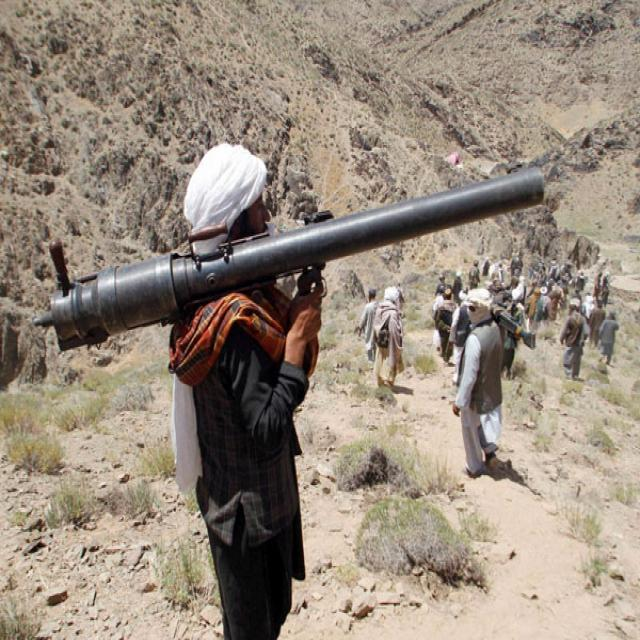bazooka: (30, 123, 578, 376)
